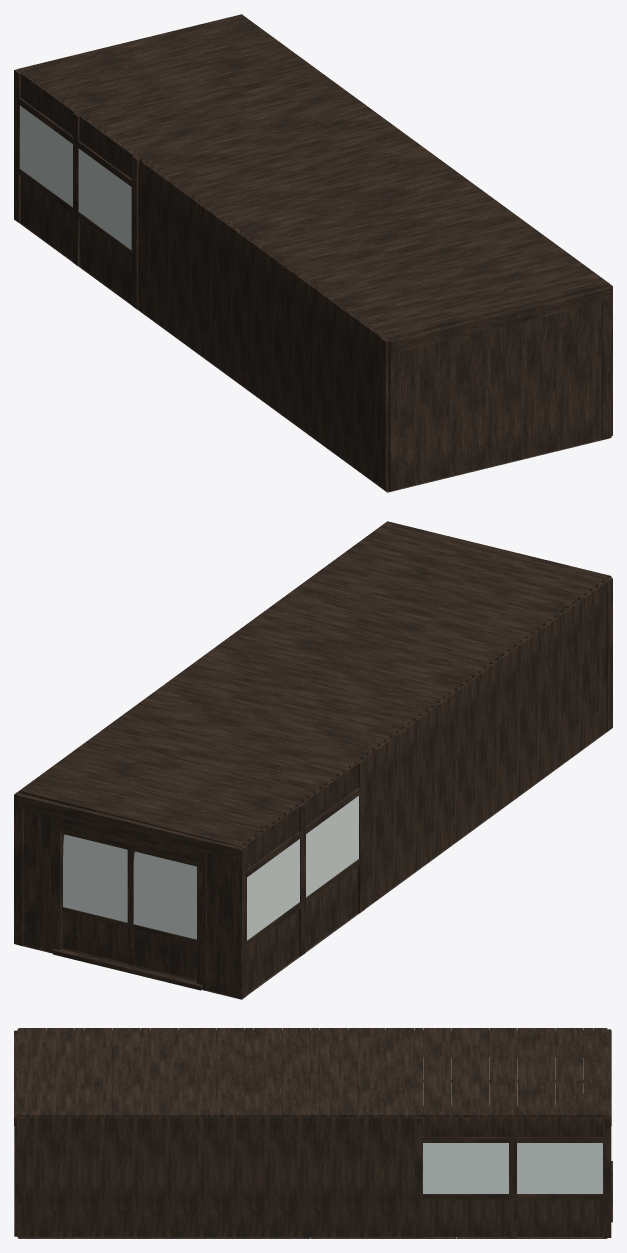
The model's file is ending-stage.glb.
3 renders of one model, top to bottom at view 1: azimuth 30°, elevation 25°; view 2: azimuth 150°, elevation 25°; view 3: azimuth 270°, elevation 25°, orthographic. The views are drawn at different scales.
Visible parts, largest first — view 1: Final ceiling board, WindowGlass, Final floorboard; view 2: Final ceiling board, WindowGlass, DoorGlass.001, DoorGlass, Door lower panel.001, Door lower panel, Final floorboard; view 3: Final ceiling board, WindowGlass.001, Final floorboard.
Part boxes in pixels (box(x1,y1,x2,y2)): Final ceiling board: box(14, 14, 612, 491); WindowGlass: box(20, 105, 131, 249); Final floorboard: box(19, 222, 609, 492); Final ceiling board: box(14, 521, 612, 999); WindowGlass: box(247, 796, 358, 940); DoorGlass.001: box(63, 834, 127, 922); DoorGlass: box(133, 851, 196, 939); Door lower panel.001: box(63, 911, 127, 963); Door lower panel: box(133, 928, 196, 980); Final floorboard: box(19, 731, 608, 999); Final ceiling board: box(14, 1028, 612, 1237); WindowGlass.001: box(423, 1143, 602, 1193); Final floorboard: box(18, 1151, 607, 1238).
Bounding box in the file's own units: 4.47 × 2.9 × 12.71.
6 materials, 3 textured.
